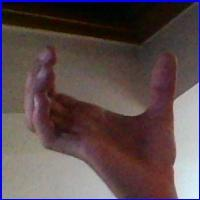space: (21, 42, 182, 174)
